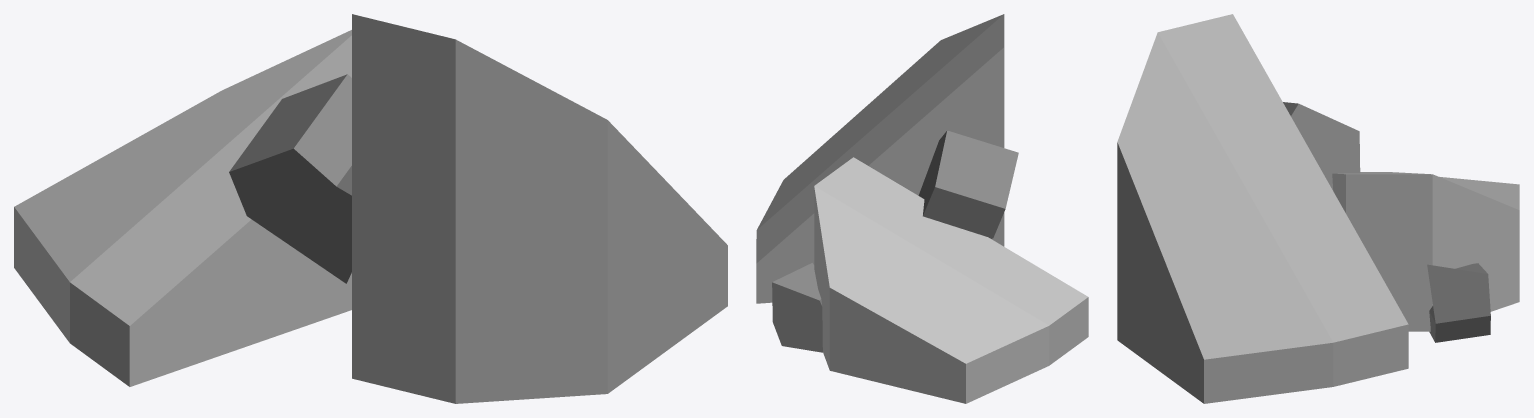
File: rock-type5-03-grey.glb
The picture shows the model from 3 angles, left to right: view 1: azimuth 30°, elevation 25°; view 2: azimuth 150°, elevation 25°; view 3: azimuth 270°, elevation 25°; orthographic projection. The views are drawn at different scales.
Visible parts, largest first — view 1: Rock_Type5_03_mesh; view 2: Rock_Type5_03_mesh; view 3: Rock_Type5_03_mesh.
Part boxes in pixels (x1,y1,x2,y2): Rock_Type5_03_mesh: [14, 14, 727, 403]; Rock_Type5_03_mesh: [756, 14, 1088, 403]; Rock_Type5_03_mesh: [1117, 14, 1519, 403].
Bounding box in the file's own units: 2.17 × 1.44 × 1.96.
1 material, 1 textured.
